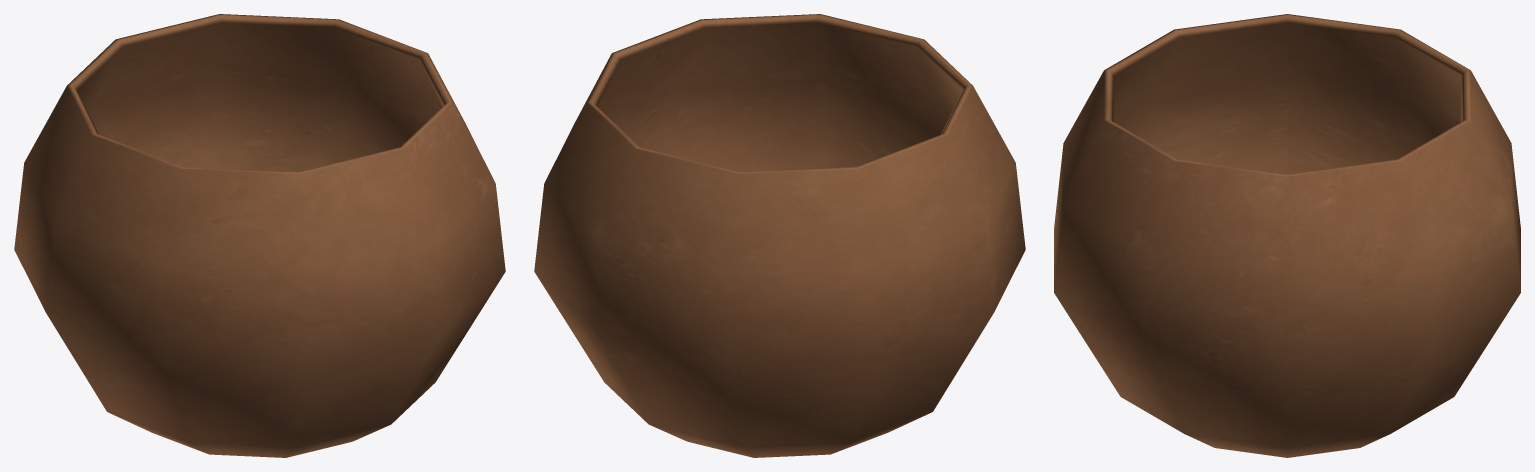
File: BigBowl.fbx
3 renders of one model, left to right at view 1: azimuth 30°, elevation 25°; view 2: azimuth 150°, elevation 25°; view 3: azimuth 270°, elevation 25°, orthographic.
Visible parts, largest first — view 1: Pottery_BigBowl; view 2: Pottery_BigBowl; view 3: Pottery_BigBowl.
Part boxes in pixels (left/top/right/bottom): Pottery_BigBowl: left=14, top=14, right=505, bottom=457; Pottery_BigBowl: left=534, top=14, right=1025, bottom=457; Pottery_BigBowl: left=1054, top=14, right=1520, bottom=457.
Size of the model in its own units: 13.56 by 9.52 by 12.89.
